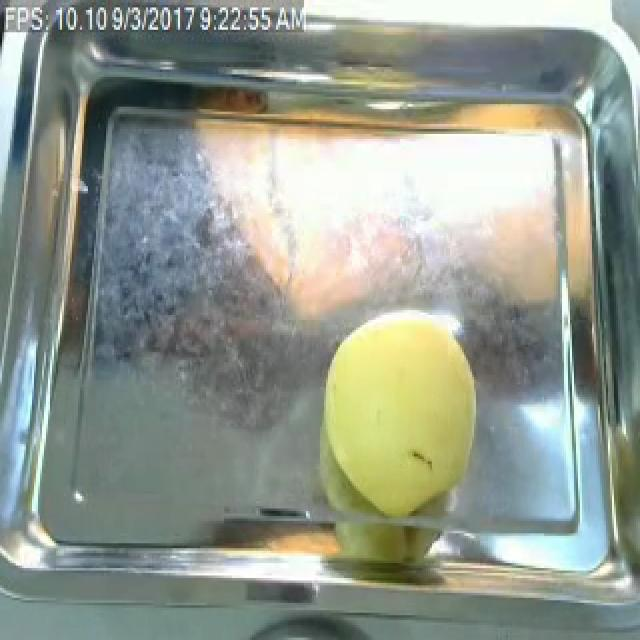Fruit: (310, 305, 492, 524), (466, 181, 566, 323)
